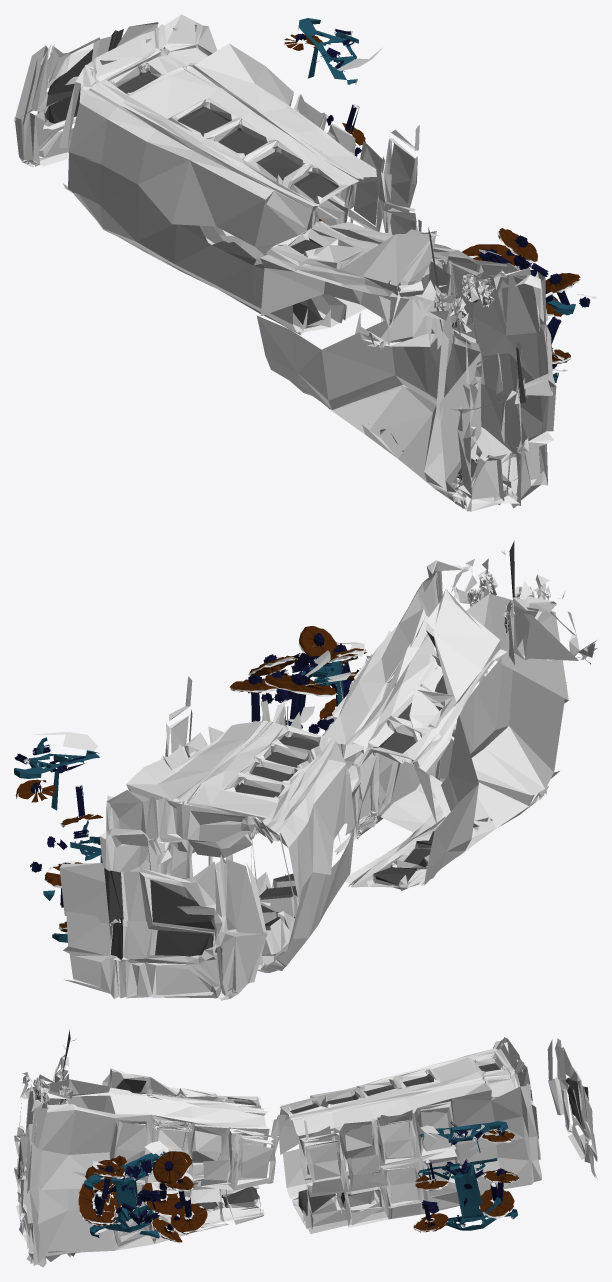
File: BrokenTrolley.fbx
The picture shows the model from 3 angles, top to bottom: view 1: azimuth 30°, elevation 25°; view 2: azimuth 150°, elevation 25°; view 3: azimuth 270°, elevation 25°; orthographic projection. The views are drawn at different scales.
Parts seen in each view (by area): view 1: Cube.112, Cube.002, Cube.001, Cube.019, Cube.035; view 2: Cube.112, Cube.002, Cube.001, Cube.076, Cube.103, Cube.035, Cube.051, Cube.019, Cube; view 3: Cube.112, Cube.002, Cube.001, Cube, Cube.097, Cube.019, Cube.056, Cube.103, Cube.108, Cube.041, Cube.029, Cube.081 (+4 smaller).
Boxes of the visible parts, x1,y1,x2,y2 form: Cube.112: [14, 14, 419, 335]; Cube.002: [256, 167, 556, 511]; Cube.001: [298, 18, 357, 84]; Cube.019: [496, 228, 537, 263]; Cube.035: [545, 273, 580, 314]; Cube.112: [59, 676, 354, 1000]; Cube.002: [260, 541, 597, 890]; Cube.001: [14, 750, 102, 942]; Cube.076: [264, 673, 337, 721]; Cube.103: [15, 779, 82, 907]; Cube.035: [299, 626, 337, 667]; Cube.051: [229, 674, 277, 722]; Cube.019: [248, 654, 298, 702]; Cube: [311, 661, 344, 704]; Cube.112: [279, 1037, 597, 1233]; Cube.002: [14, 1029, 286, 1267]; Cube.001: [418, 1121, 517, 1230]; Cube: [84, 1151, 165, 1237]; Cube.097: [413, 1159, 448, 1232]; Cube.019: [152, 1151, 187, 1184]; Cube.056: [170, 1196, 207, 1234]; Cube.103: [482, 1128, 519, 1201]; Cube.108: [479, 1183, 514, 1218]; Cube.041: [142, 1183, 180, 1216]; Cube.029: [78, 1191, 115, 1225]; Cube.081: [78, 1183, 115, 1225].
Bounding box in the file's own units: 296 × 269 × 673.
